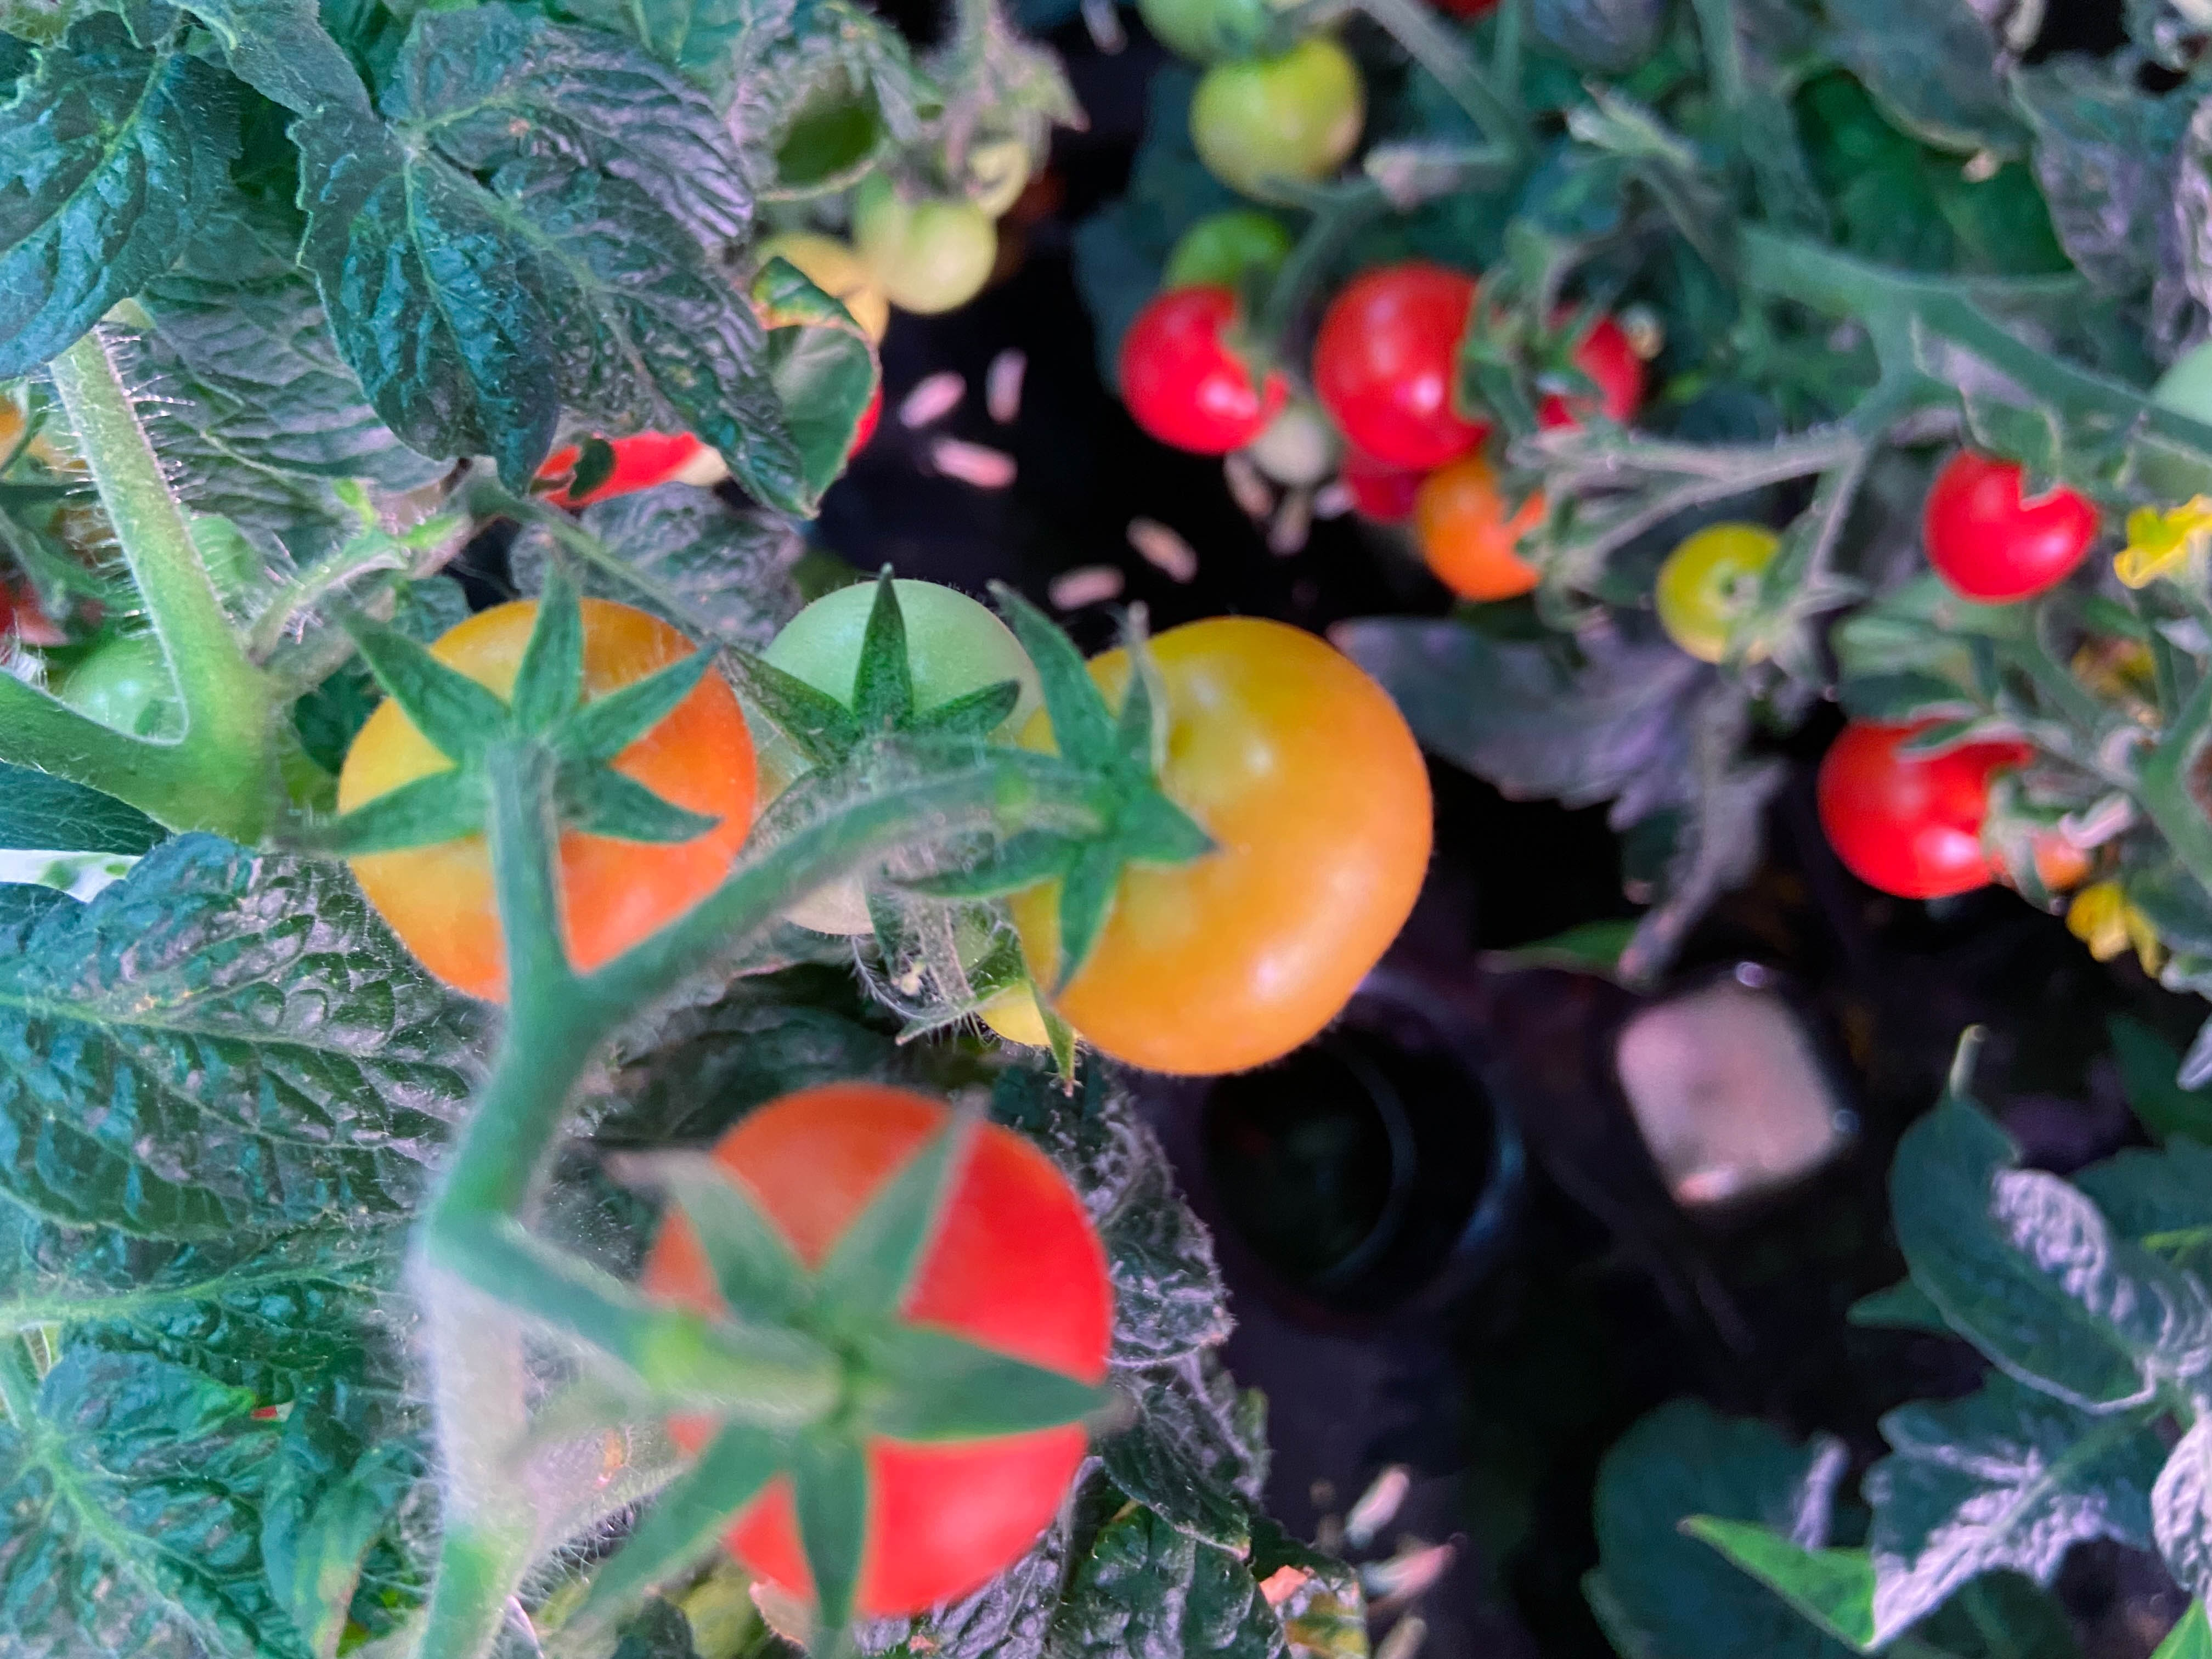green: (726, 566, 1054, 917), (1188, 28, 1369, 195), (747, 223, 892, 364), (857, 179, 1000, 315)
red: (627, 1082, 1116, 1647), (993, 610, 1435, 1082), (331, 586, 765, 1012), (1815, 709, 2027, 897), (1313, 263, 1501, 471), (1115, 260, 1298, 457), (1919, 446, 2099, 603), (1413, 444, 1568, 601), (1653, 519, 1803, 667), (538, 403, 712, 505), (1979, 770, 2099, 890), (1534, 317, 1641, 430)
